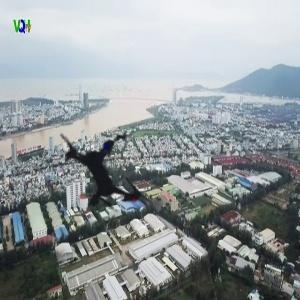drone: (16, 83, 200, 267)
